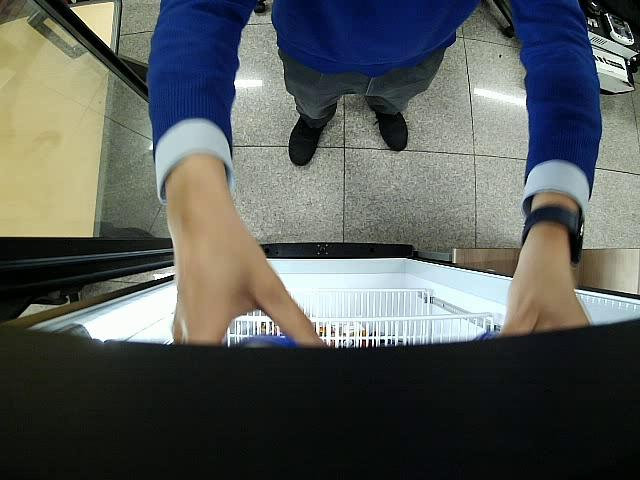00_hand: (165, 185, 328, 347)
